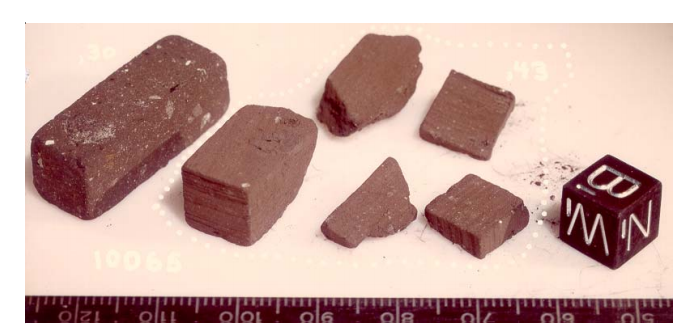Breccia: (35, 37, 224, 180), (420, 160, 536, 265), (209, 108, 315, 221), (311, 30, 431, 118), (326, 149, 418, 248), (422, 69, 510, 152)
